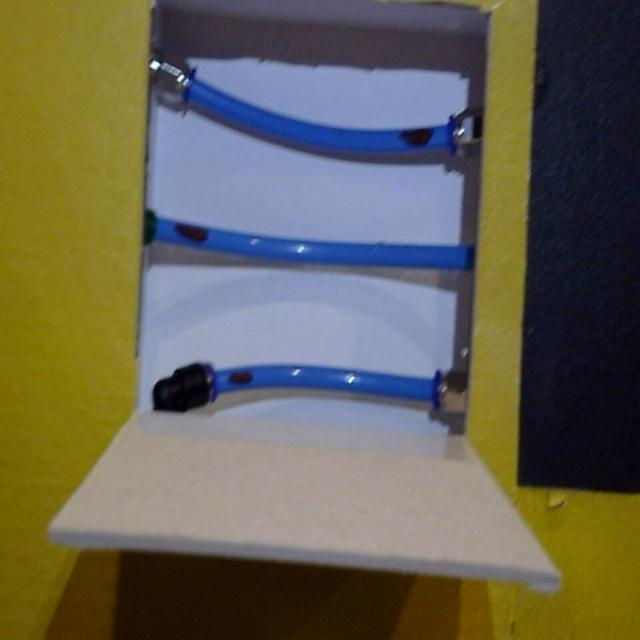hose_damage: (399, 125, 434, 148), (175, 223, 209, 244), (225, 367, 257, 387)
